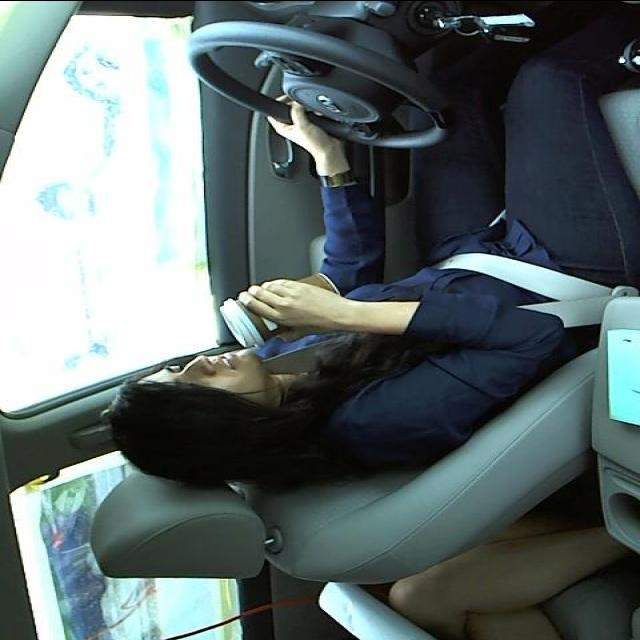drinking: (218, 269, 342, 349)
